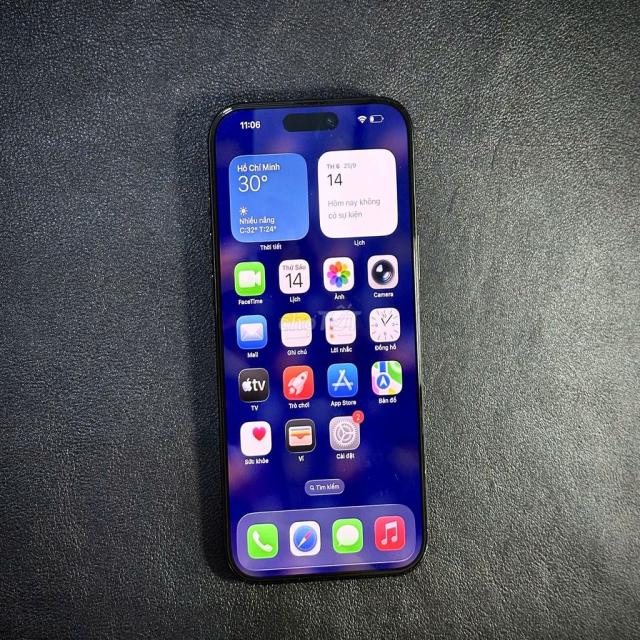gen_16: (203, 91, 441, 590)
